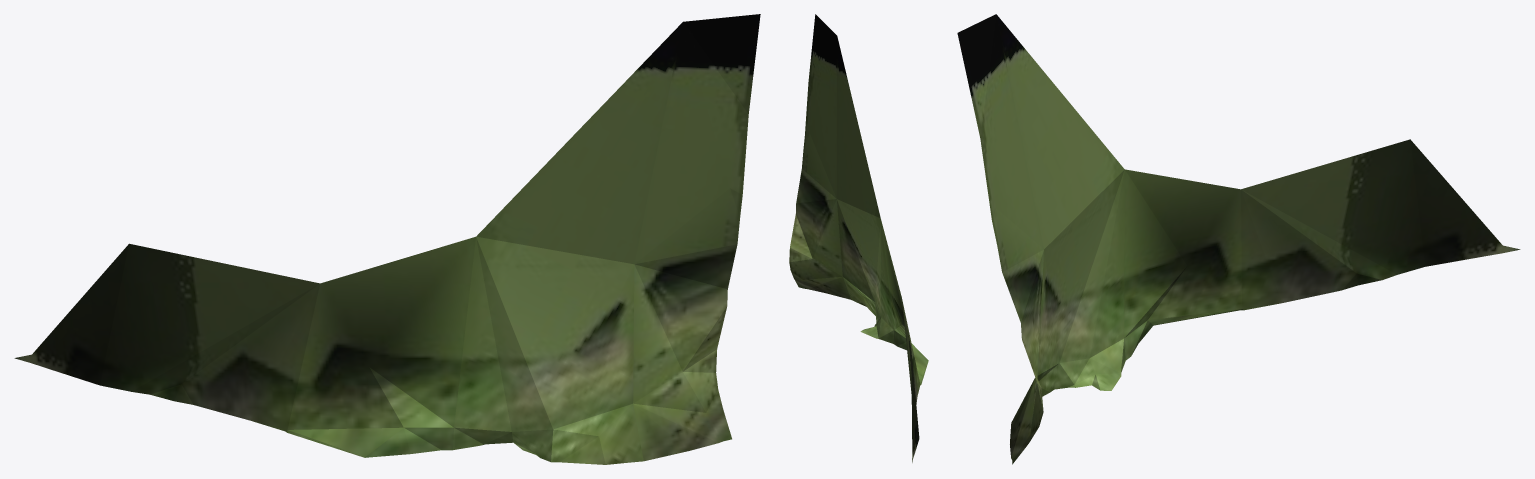
The picture shows the model from 3 angles, left to right: view 1: azimuth 30°, elevation 25°; view 2: azimuth 150°, elevation 25°; view 3: azimuth 270°, elevation 25°; orthographic projection. The views are drawn at different scales.
Size of the model in its own units: 32.44 by 30.35 by 35.85.
1 material, 1 textured.
